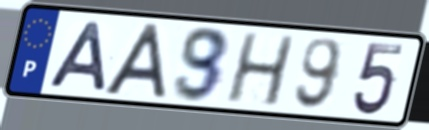5: (350, 40, 408, 116)
9: (171, 25, 234, 105), (293, 36, 345, 111)
A: (100, 22, 169, 102), (43, 19, 110, 93)
H: (222, 31, 298, 109)
